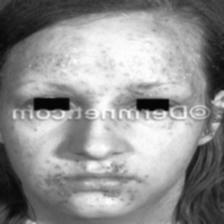Toxin: (15, 37, 191, 79), (42, 192, 148, 218), (35, 158, 155, 176), (136, 23, 198, 44), (27, 169, 60, 199), (82, 83, 118, 107)
